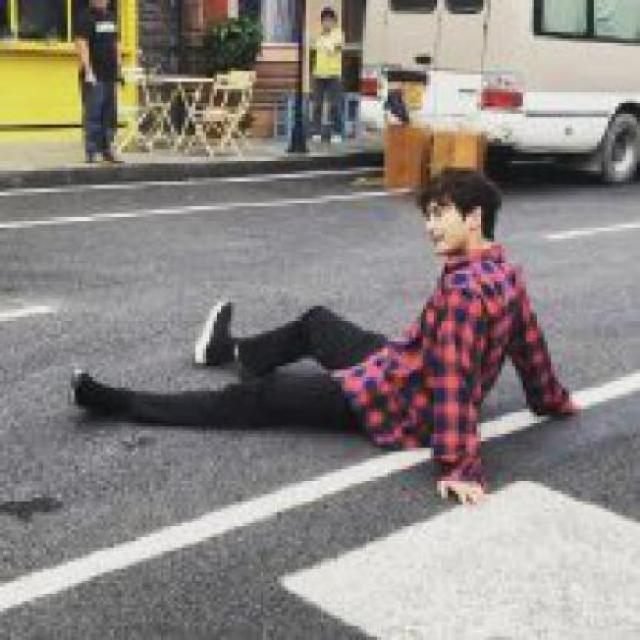fall: (46, 164, 591, 479)
